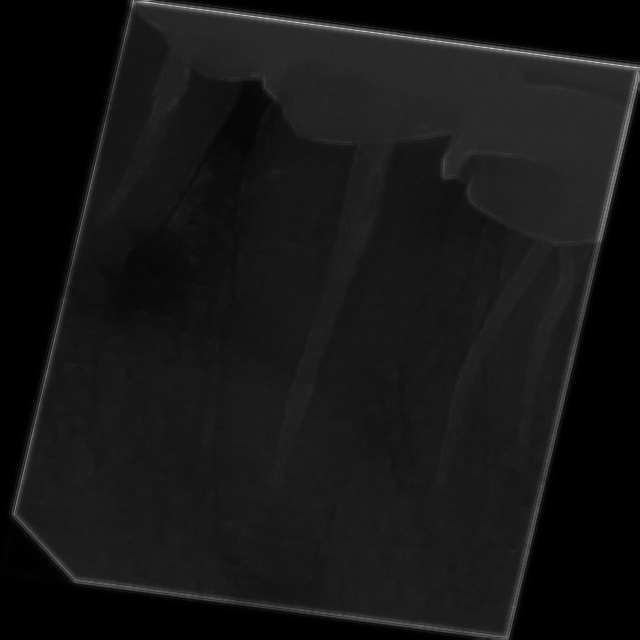Class 1- complete endodontic treatment: (128, 17, 496, 620), (311, 49, 635, 540), (51, 1, 295, 376)
